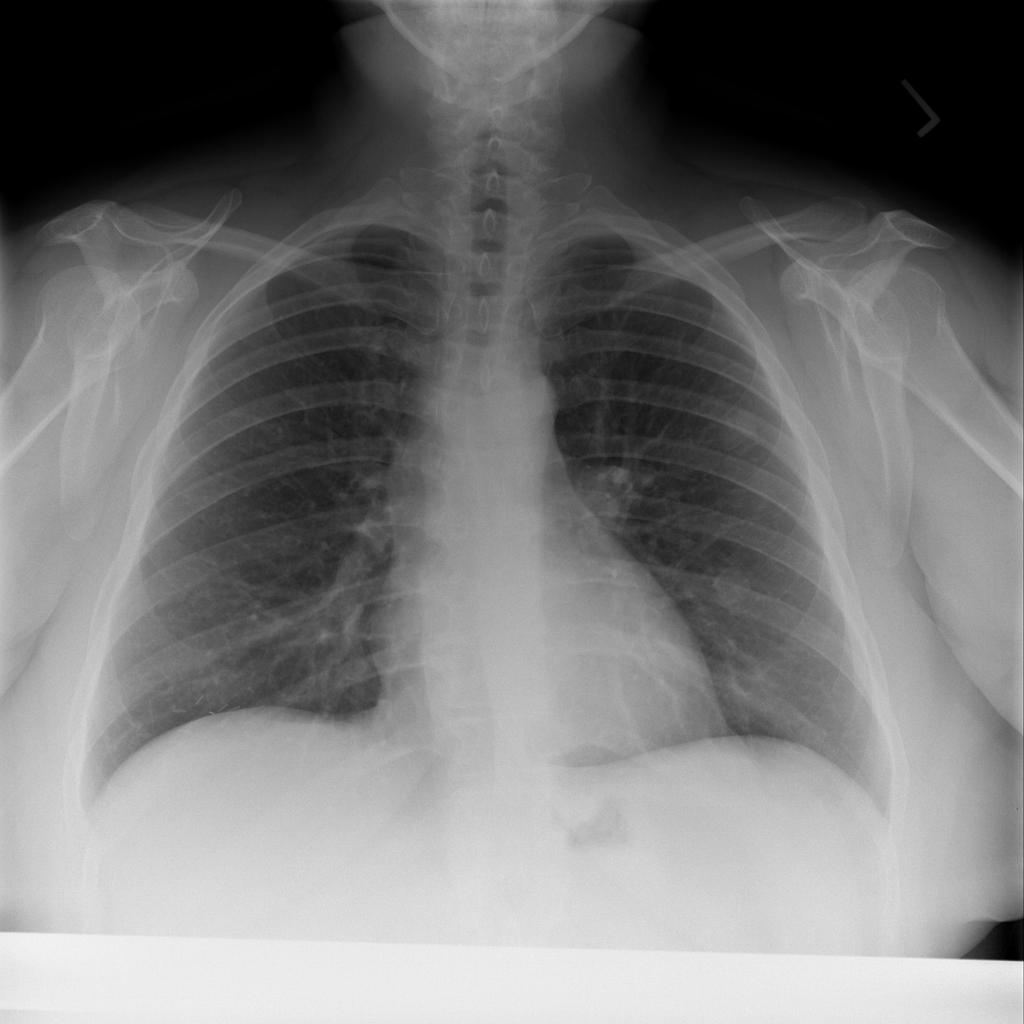nodule: (706, 395, 781, 465), (697, 551, 768, 623)
